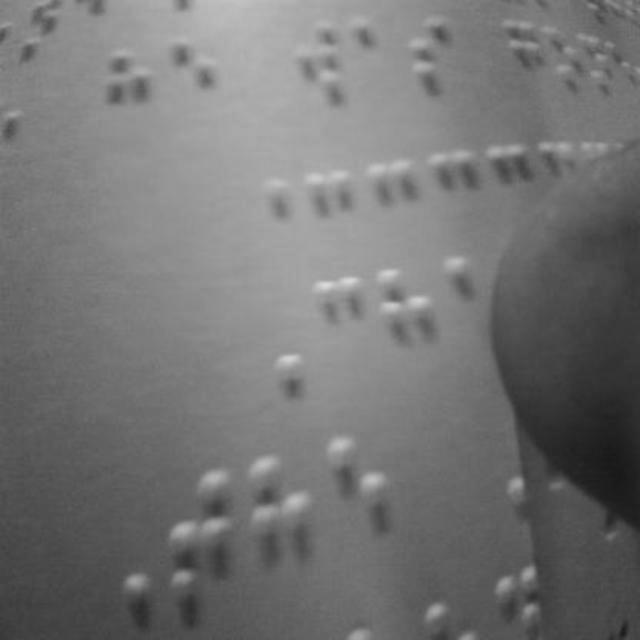braiile: (164, 460, 240, 616), (244, 453, 320, 603), (324, 432, 398, 582), (311, 268, 375, 386), (380, 254, 438, 376), (104, 36, 164, 148), (286, 13, 344, 125), (168, 28, 222, 140), (404, 6, 460, 110), (350, 11, 398, 118)
